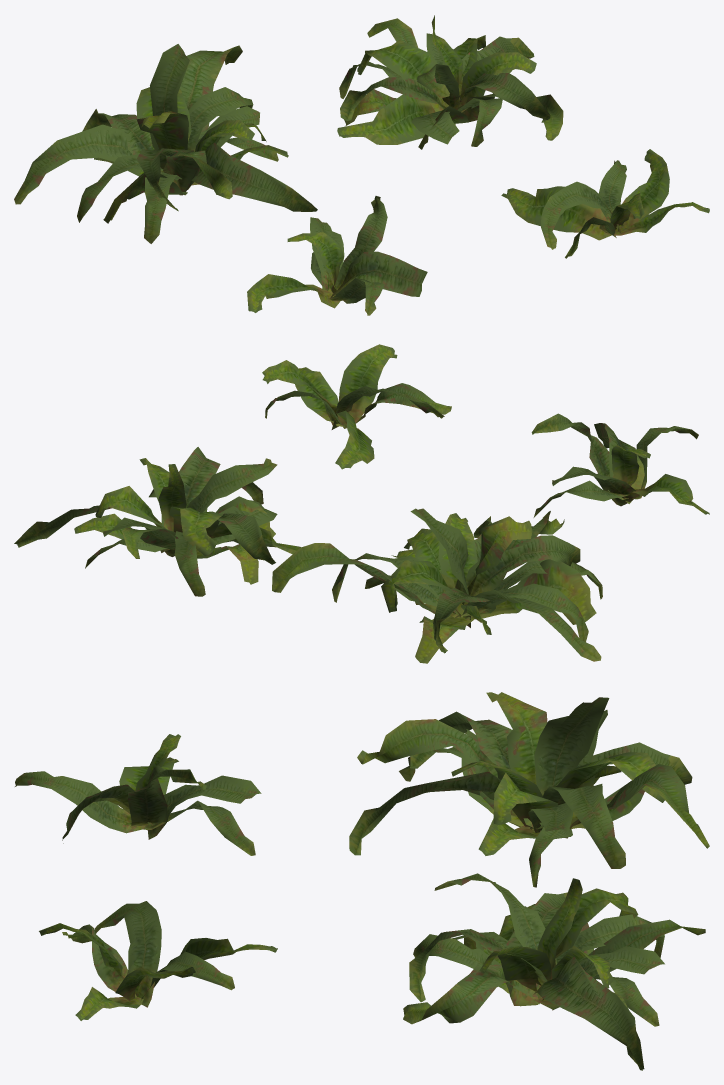
The model's file is fern_02-lod.glb.
The picture shows the model from 3 angles, top to bottom: view 1: azimuth 30°, elevation 25°; view 2: azimuth 150°, elevation 25°; view 3: azimuth 270°, elevation 25°; orthographic projection. The views are drawn at different scales.
Visible parts, largest first — view 1: fern_02_b, fern_02_c, fern_02_d, fern_02_a; view 2: fern_02_b, fern_02_c, fern_02_d, fern_02_a; view 3: fern_02_b, fern_02_c, fern_02_a, fern_02_d.
Boxes of the visible parts, bbox=[...] form: fern_02_b: bbox=[14, 44, 317, 243]; fern_02_c: bbox=[337, 15, 563, 149]; fern_02_d: bbox=[501, 149, 709, 258]; fern_02_a: bbox=[247, 196, 427, 315]; fern_02_b: bbox=[272, 508, 602, 663]; fern_02_c: bbox=[14, 447, 300, 596]; fern_02_d: bbox=[262, 344, 451, 469]; fern_02_a: bbox=[531, 413, 709, 517]; fern_02_b: bbox=[349, 692, 709, 887]; fern_02_c: bbox=[403, 873, 705, 1070]; fern_02_a: bbox=[15, 734, 261, 855]; fern_02_d: bbox=[39, 901, 277, 1020].
Size of the model in its own units: 1.97 by 0.4277 by 1.72.
1 material, 1 textured.
